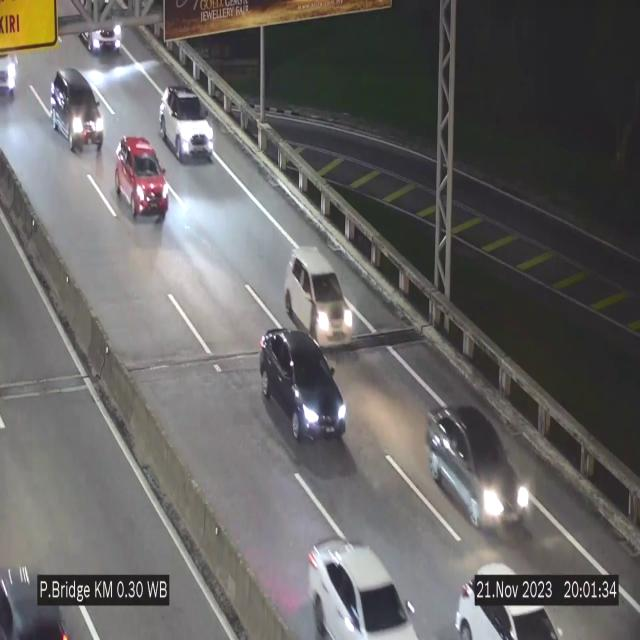Car: (426, 405, 530, 535), (303, 535, 422, 640), (256, 332, 352, 451), (449, 550, 569, 640), (280, 241, 355, 356), (115, 135, 168, 221), (50, 73, 104, 156), (160, 85, 214, 161), (77, 0, 133, 56), (0, 49, 32, 94)
